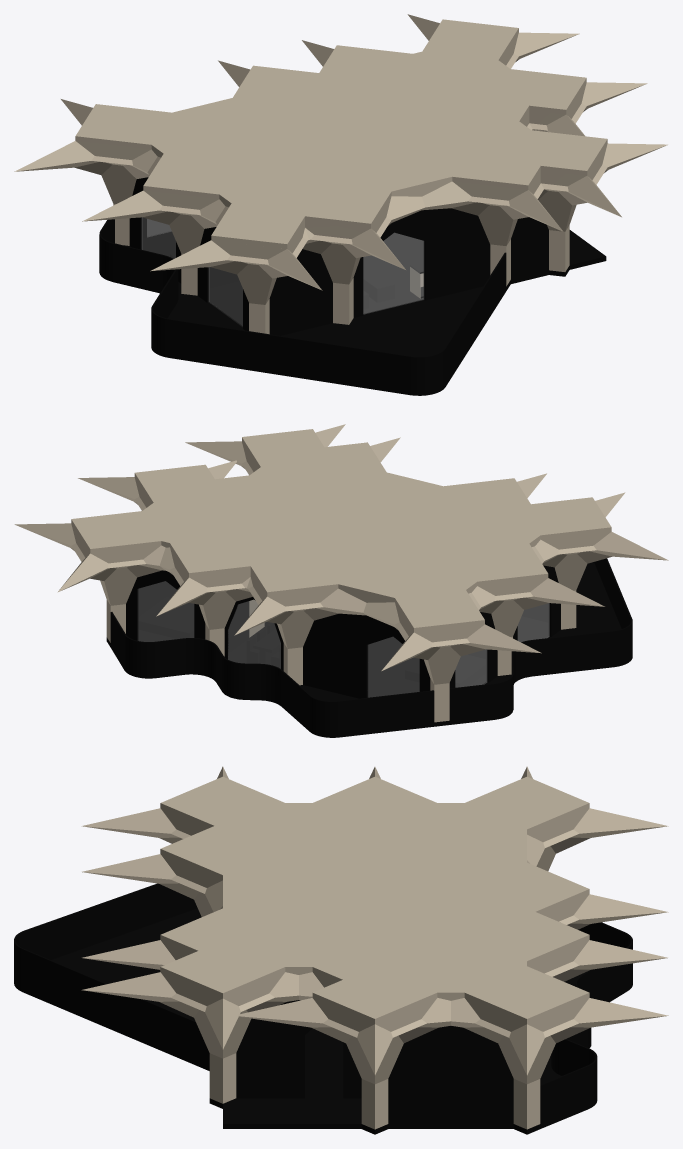
3 views of the same model, one above another, from view 1: azimuth 30°, elevation 25°; view 2: azimuth 150°, elevation 25°; view 3: azimuth 270°, elevation 25° (orthographic). The views are drawn at different scales.
Parts seen in each view (by area): view 1: santech, object 1, object 9, object 63, object 4, object 62, object 65, object 88, object 58, object 14, object 5, object 59 (+2 smaller); view 2: santech, object 1, object 10, object 9, object 4, object 50, object 23, object 11, object 55, object 48, object 3, object 14 (+7 smaller); view 3: santech, object 1, object 56, object 87, object 9, object 5, object 4.
Boxes of the visible parts, bbox=[...] form: santech: bbox=[14, 14, 667, 334]; object 1: bbox=[99, 219, 506, 391]; object 9: bbox=[99, 219, 506, 395]; object 63: bbox=[353, 208, 490, 317]; object 4: bbox=[143, 230, 569, 328]; object 62: bbox=[269, 249, 332, 335]; object 65: bbox=[363, 233, 423, 314]; object 88: bbox=[511, 217, 548, 279]; object 58: bbox=[209, 267, 242, 326]; object 14: bbox=[142, 217, 175, 258]; object 5: bbox=[569, 230, 606, 269]; object 59: bbox=[197, 227, 248, 330]; santech: bbox=[14, 424, 668, 722]; object 1: bbox=[110, 558, 632, 733]; object 10: bbox=[303, 613, 430, 698]; object 9: bbox=[110, 562, 632, 737]; object 4: bbox=[106, 616, 550, 726]; object 50: bbox=[138, 581, 193, 641]; object 23: bbox=[228, 600, 280, 668]; object 11: bbox=[368, 637, 419, 697]; object 55: bbox=[138, 597, 194, 638]; object 48: bbox=[126, 570, 205, 640]; object 3: bbox=[405, 654, 485, 687]; object 14: bbox=[455, 649, 486, 687]; santech: bbox=[81, 766, 668, 1129]; object 1: bbox=[14, 883, 632, 1123]; object 56: bbox=[388, 1026, 513, 1123]; object 87: bbox=[236, 1000, 361, 1098]; object 9: bbox=[14, 908, 632, 1128]; object 5: bbox=[223, 1098, 361, 1128]; object 4: bbox=[209, 1028, 540, 1134].
Bounding box in the file's own units: 19.26 × 3.96 × 17.23.
